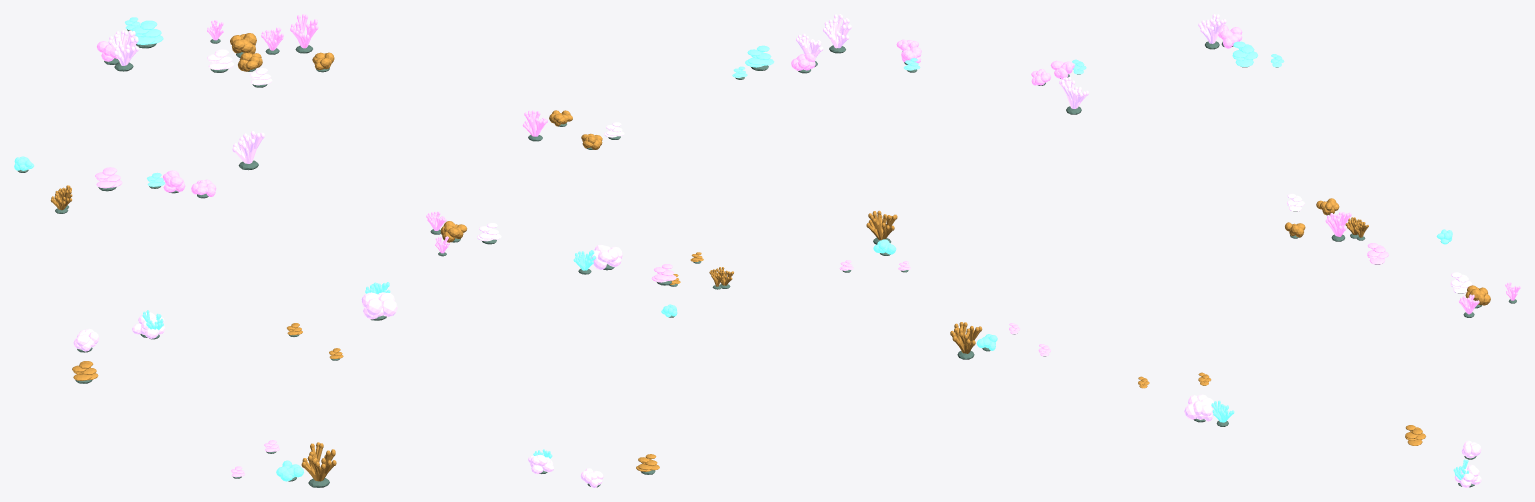
Rendered from coral_01.glb.
3 renders of one model, left to right at view 1: azimuth 30°, elevation 25°; view 2: azimuth 150°, elevation 25°; view 3: azimuth 270°, elevation 25°, orthographic. The views are drawn at different scales.
Visible parts, largest first — view 1: coral_01; view 2: coral_01; view 3: coral_01.
Part boxes in pixels (left/top/right/bottom): coral_01: left=14, top=14, right=397, bottom=487; coral_01: left=426, top=14, right=921, bottom=487; coral_01: left=950, top=14, right=1520, bottom=487.
Bounding box in the file's own units: 50.55 × 60.93 × 79.44.
